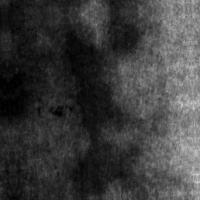patches: (62, 25, 111, 136), (8, 65, 42, 127), (108, 12, 149, 57)
